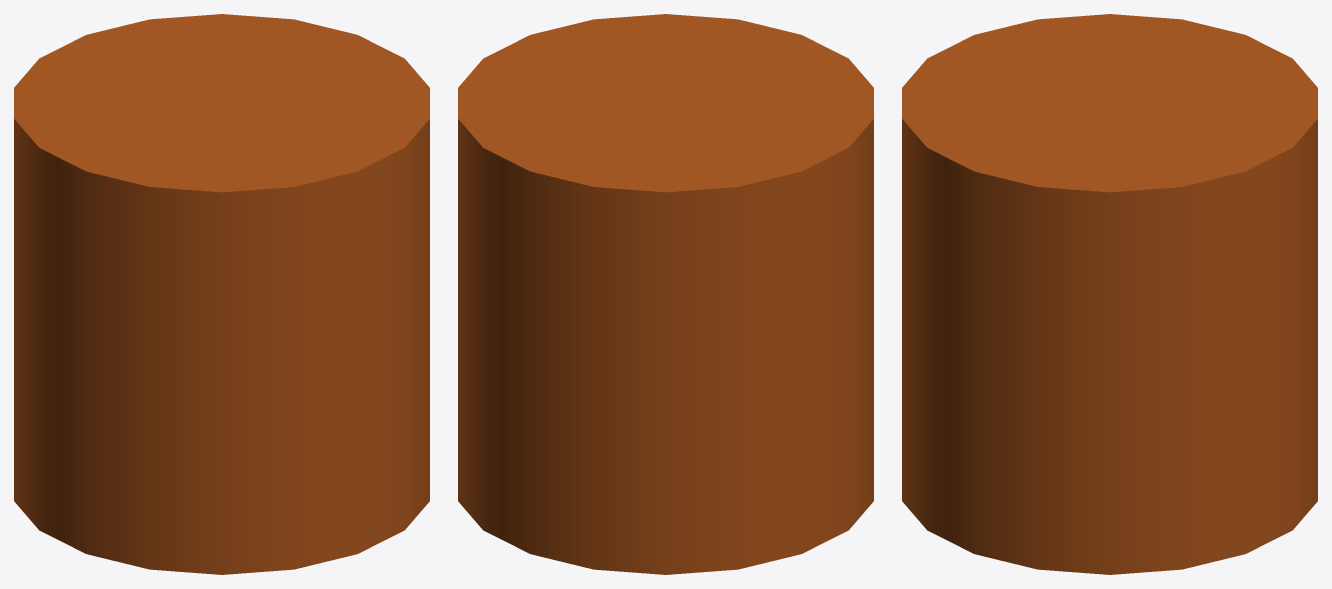
The picture shows the model from 3 angles, left to right: view 1: azimuth 30°, elevation 25°; view 2: azimuth 150°, elevation 25°; view 3: azimuth 270°, elevation 25°; orthographic projection.
Parts seen in each view (by area): view 1: Cylinder001; view 2: Cylinder001; view 3: Cylinder001.
Part boxes in pixels (<box>): Cylinder001: <box>14,14,429,574</box>; Cylinder001: <box>458,14,873,574</box>; Cylinder001: <box>902,14,1317,574</box>.
Size of the model in its own units: 1 by 1 by 0.9848.
